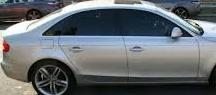Cars: (1, 3, 216, 94)
